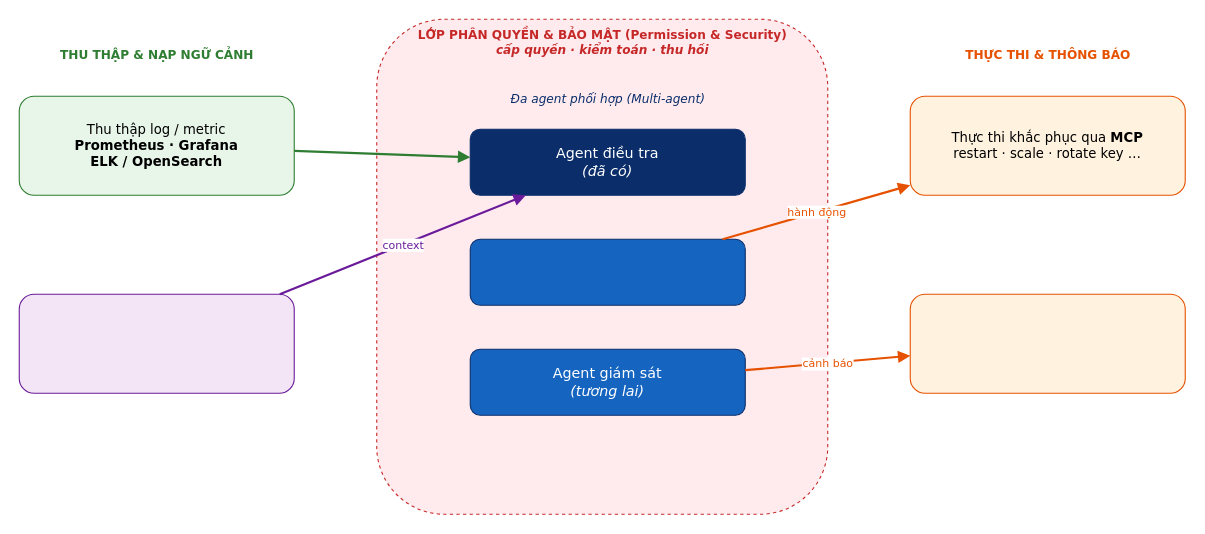
This 1205x534 diagram has some shape labels left out. Here are the shapes that lost their labels. From the top down, the centre of each, then its label:
At (607,271): "Agent khắc phục (tương lai)".
At (156,343): "Nạp ngữ cảnh qua MCP Docker MCP · Postgres MCP AWS MCP …".
At (1047,343): "Đa kênh cảnh báo email · on-call Slack · WhatsApp".
